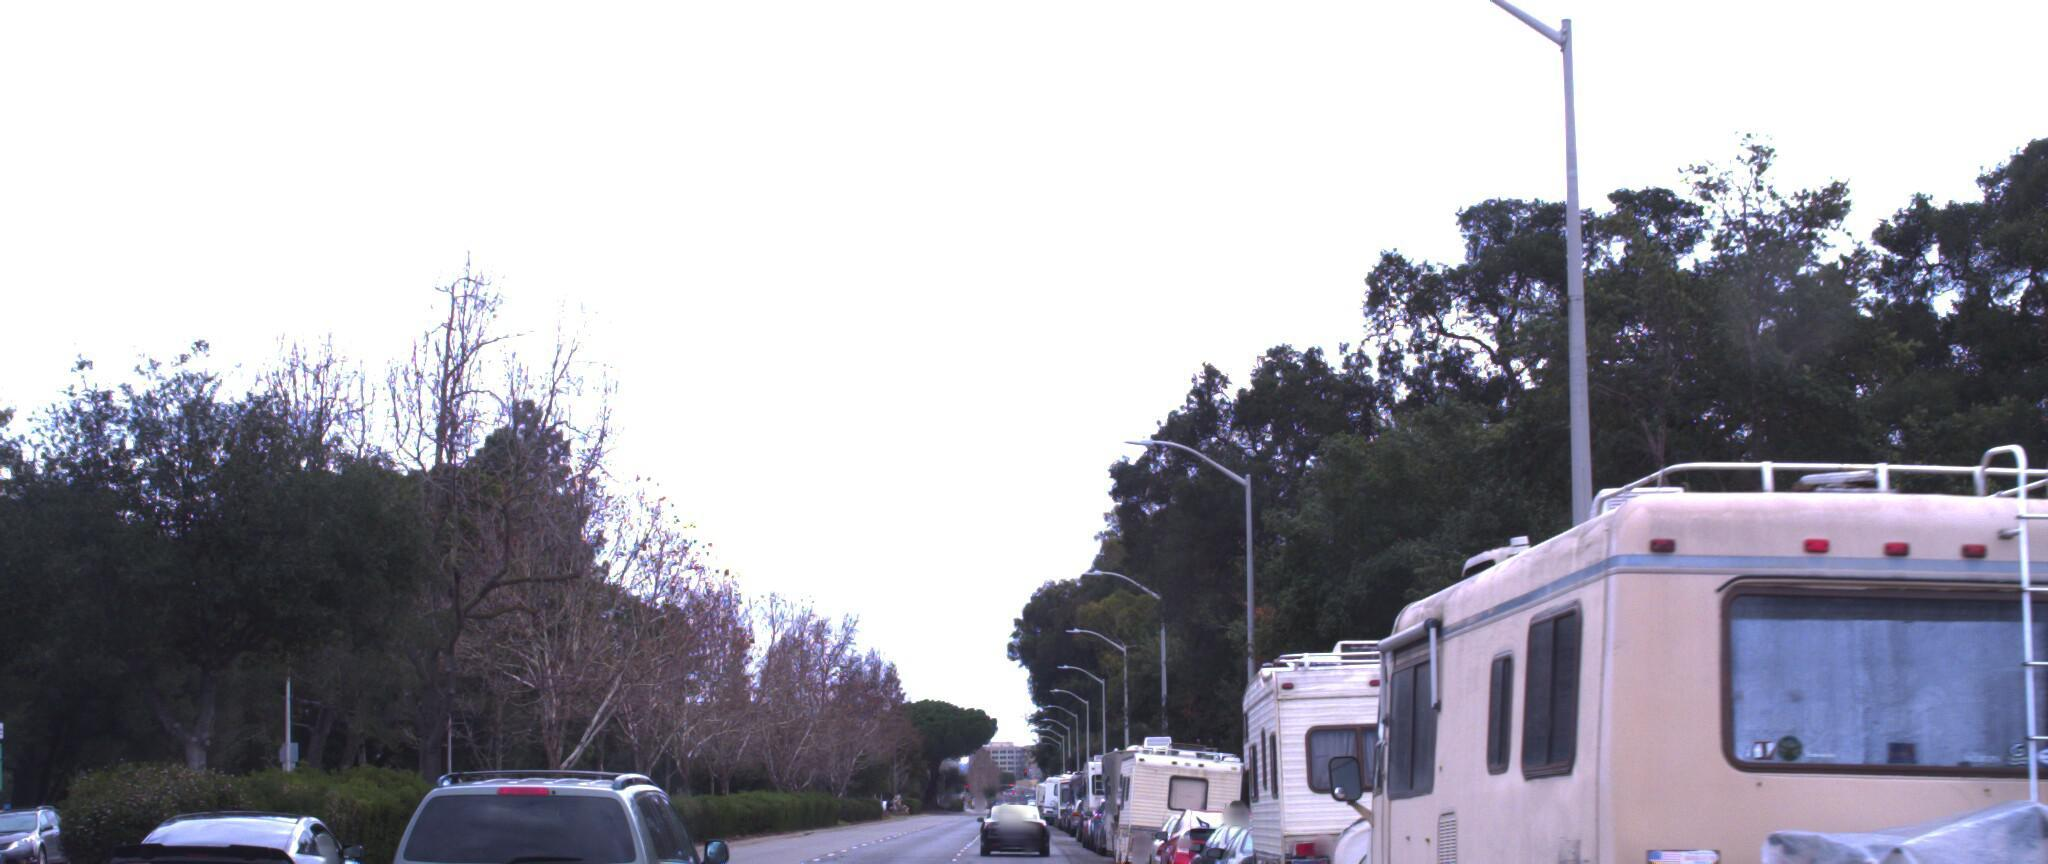car: (384, 752, 744, 864), (90, 783, 396, 864), (1287, 807, 1646, 864), (1178, 794, 1364, 864), (1162, 800, 1326, 864), (1142, 791, 1272, 864), (1674, 844, 2048, 864), (980, 790, 1048, 850)
other_vehicle: (1289, 367, 2048, 864), (1202, 600, 1590, 864), (1097, 719, 1243, 864), (1085, 722, 1213, 857)
